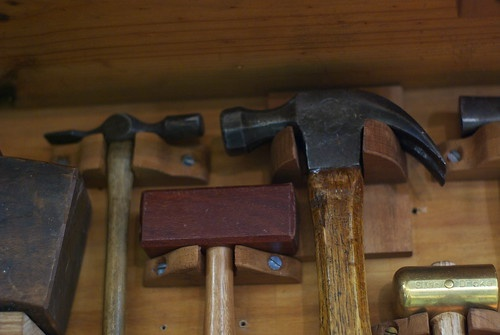hammer: (219, 87, 448, 335)
